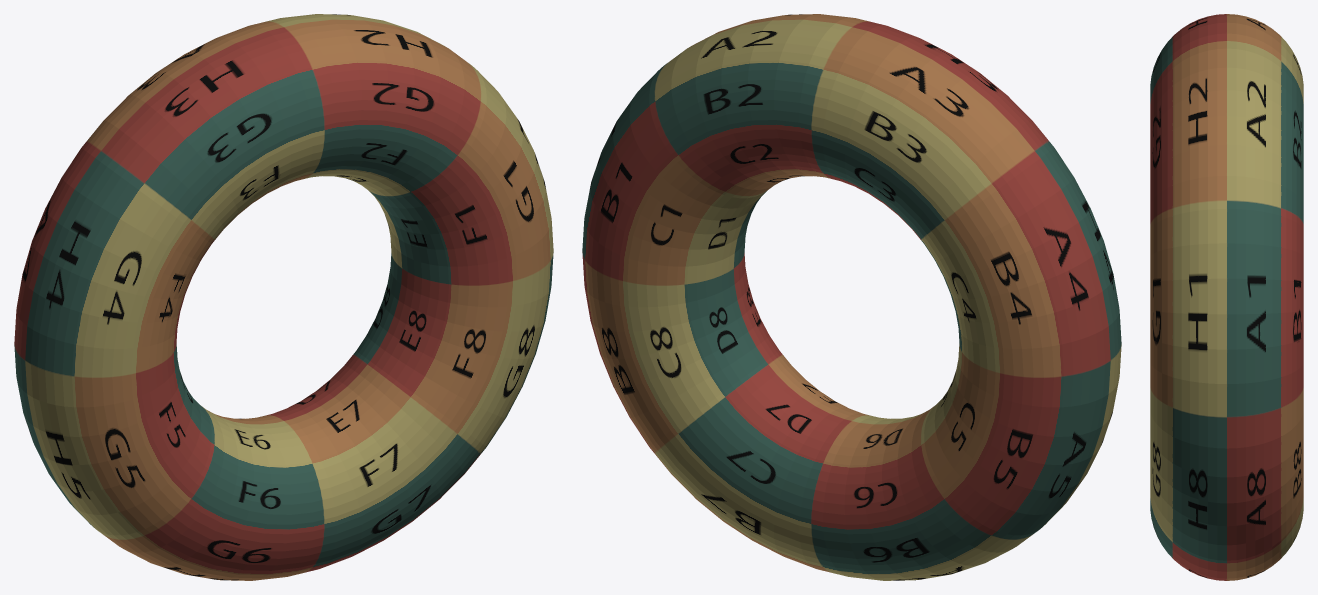
The model's file is texture_torus_R7_r13.glb.
3 renders of one model, left to right at view 1: azimuth 30°, elevation 25°; view 2: azimuth 150°, elevation 25°; view 3: azimuth 270°, elevation 25°, orthographic. The views are drawn at different scales.
Visible parts, largest first — view 1: world; view 2: world; view 3: world.
Part boxes in pixels (x1,y1,x2,y2): world: (14,14,553,580); world: (582,14,1121,580); world: (1150,14,1303,580).
Bounding box in the file's own units: 20.13 × 20.09 × 5.46.
Materials: 1 (1 with a texture image).
